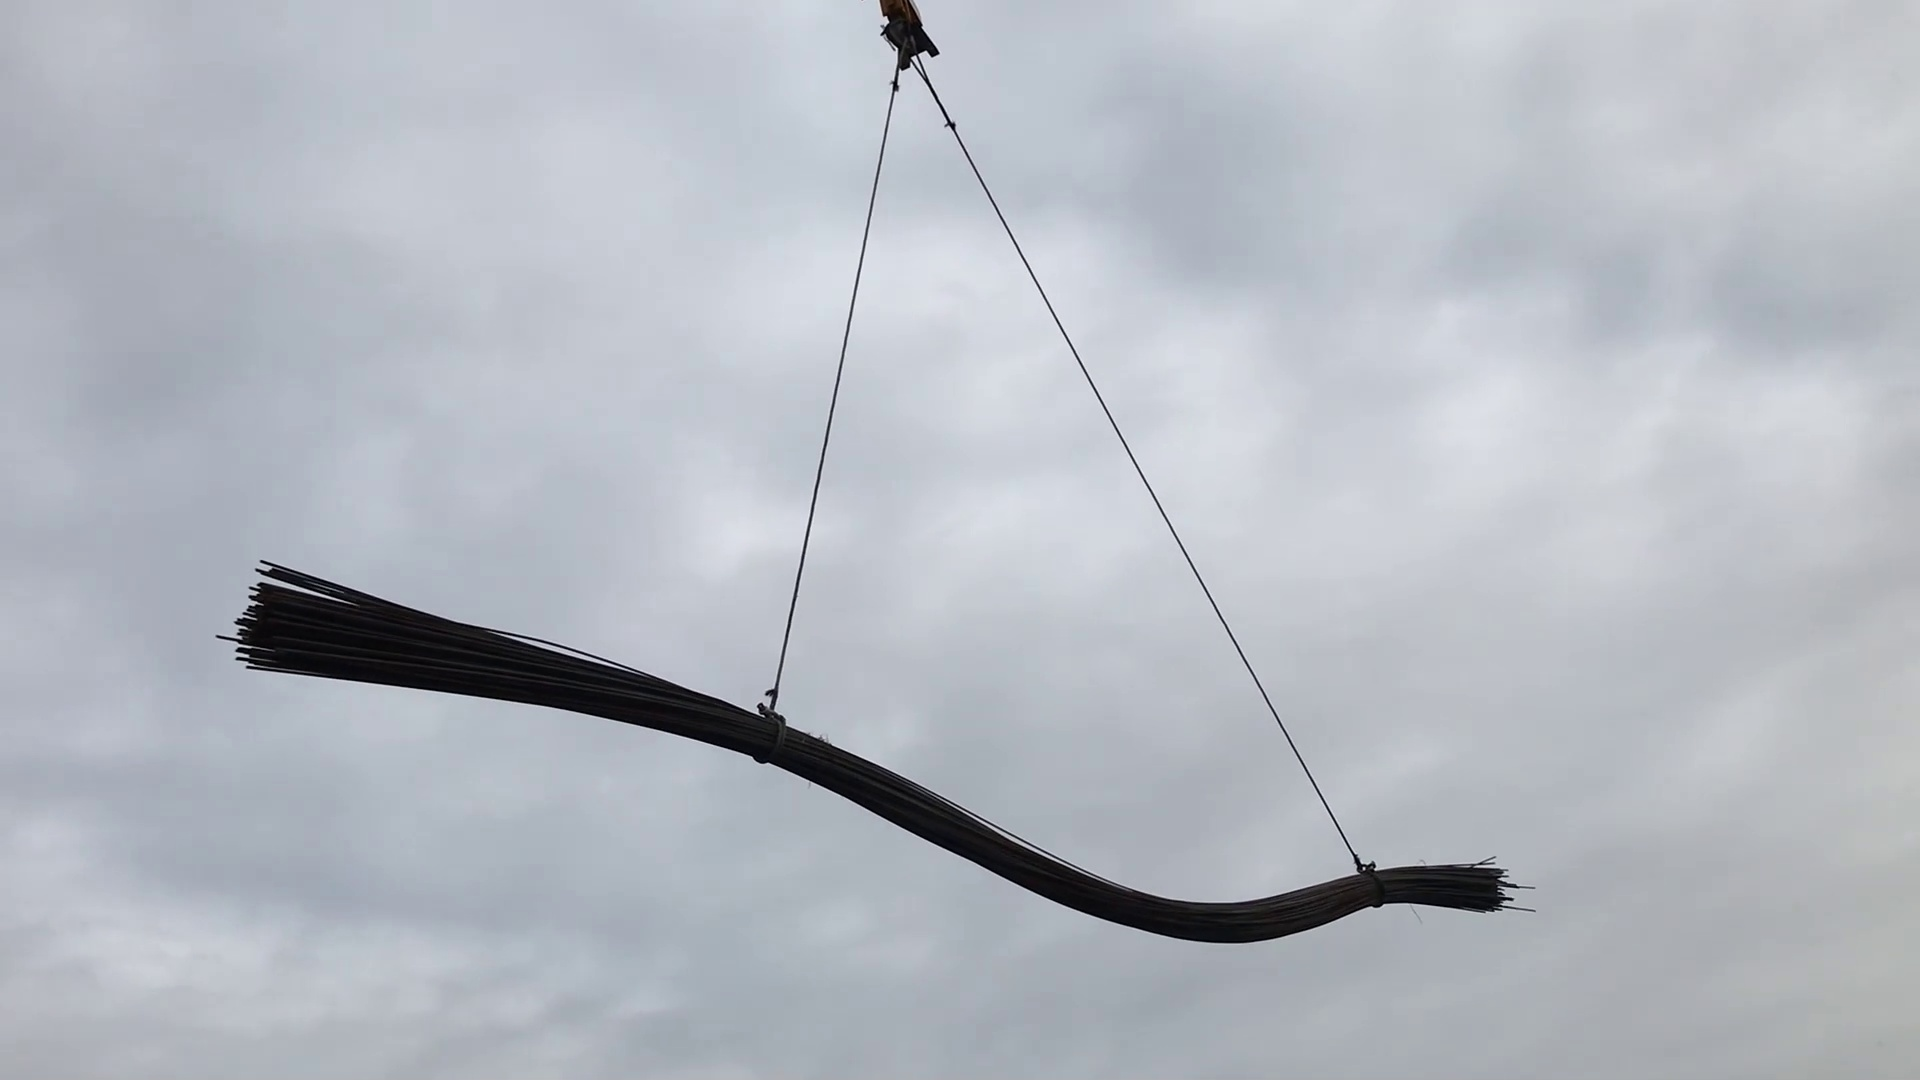hook: (876, 1, 942, 71)
